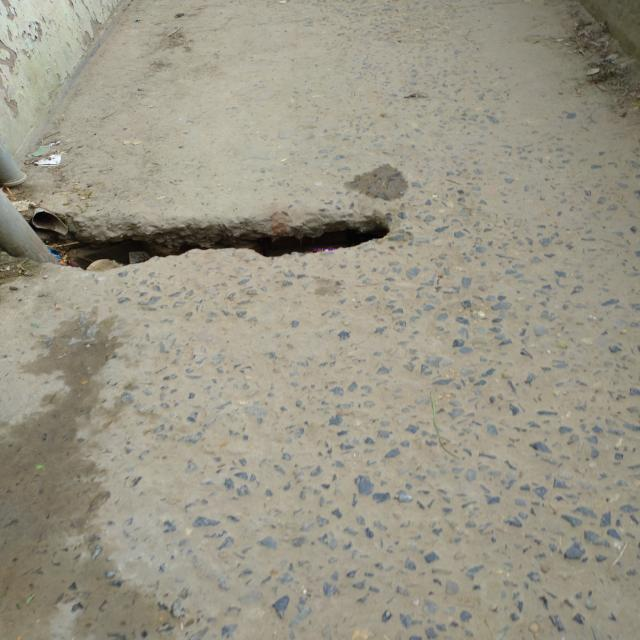potholes: (20, 211, 398, 275)
